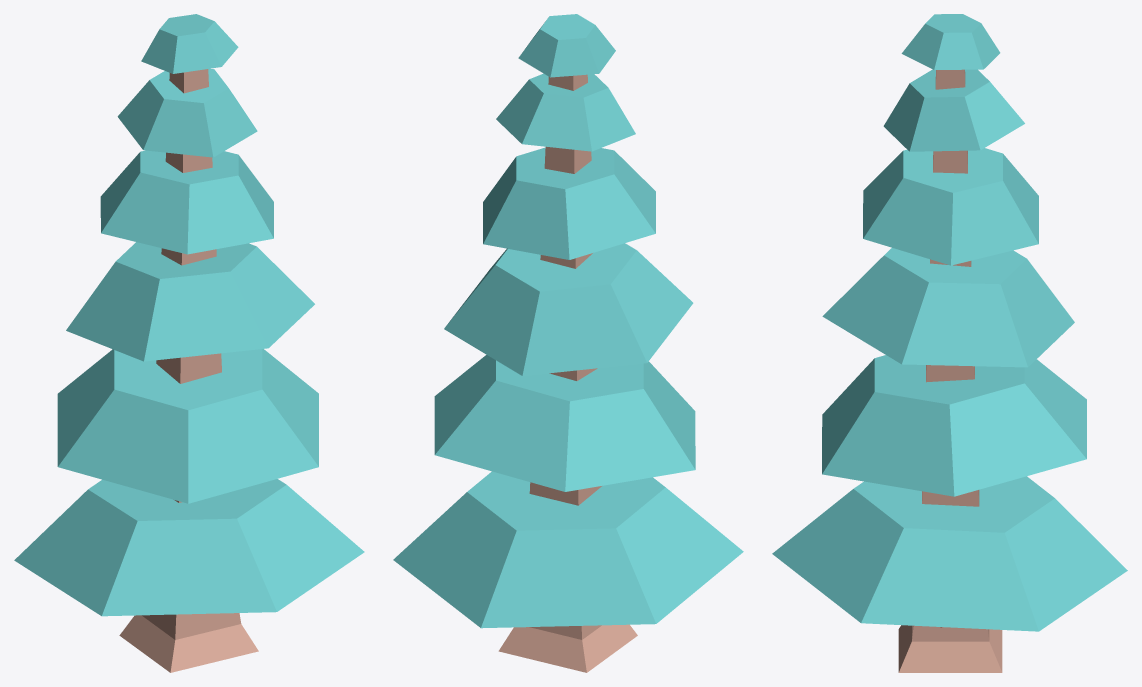
File: tree_pineRoundB.glb
The picture shows the model from 3 angles, left to right: view 1: azimuth 30°, elevation 25°; view 2: azimuth 150°, elevation 25°; view 3: azimuth 270°, elevation 25°; orthographic projection.
Visible parts, largest first — view 1: tree_pineRoundB; view 2: tree_pineRoundB; view 3: tree_pineRoundB.
Part boxes in pixels (bbox=[...]): tree_pineRoundB: bbox=[14, 14, 364, 672]; tree_pineRoundB: bbox=[393, 14, 743, 672]; tree_pineRoundB: bbox=[772, 14, 1127, 672].
Bounding box in the file's own units: 0.5322 × 1.2 × 0.6132.
Materials: 1 (1 with a texture image).
